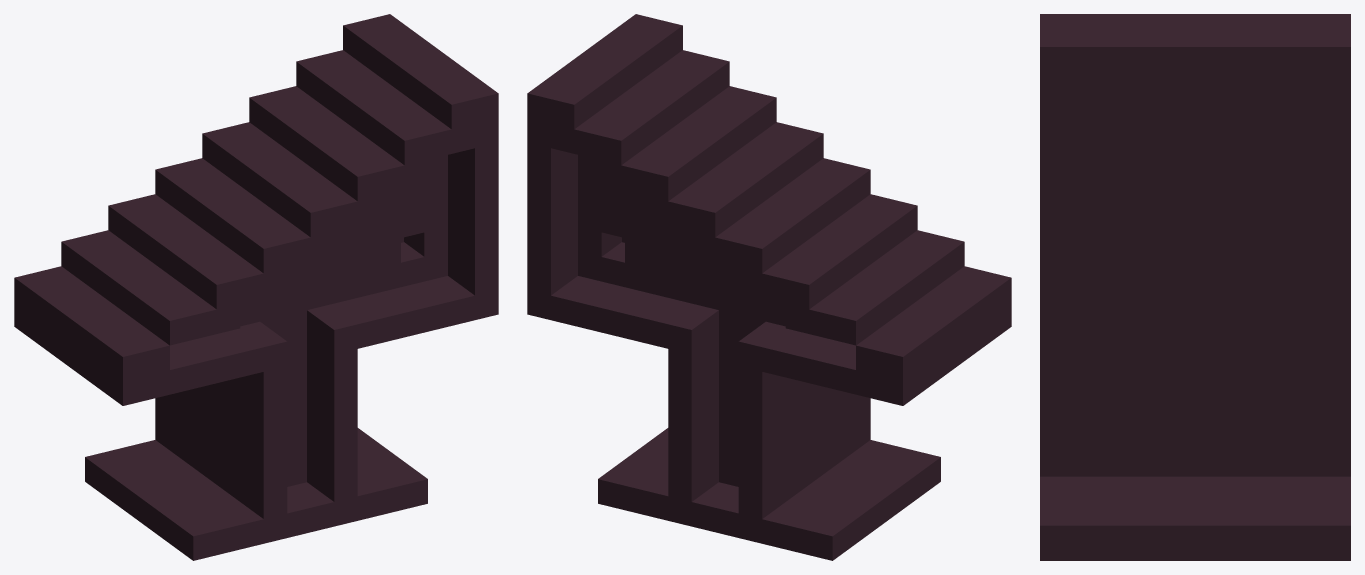
The model's file is Basket_Stand.fbx.
The picture shows the model from 3 angles, left to right: view 1: azimuth 30°, elevation 25°; view 2: azimuth 150°, elevation 25°; view 3: azimuth 270°, elevation 25°; orthographic projection. The views are drawn at different scales.
Parts seen in each view (by area): view 1: generated; view 2: generated; view 3: generated.
Boxes of the visible parts, x1,y1,x2,y2 form: generated: [14, 14, 498, 560]; generated: [527, 14, 1011, 560]; generated: [1040, 14, 1350, 560].
Bounding box in the file's own units: 160 × 160 × 80.
